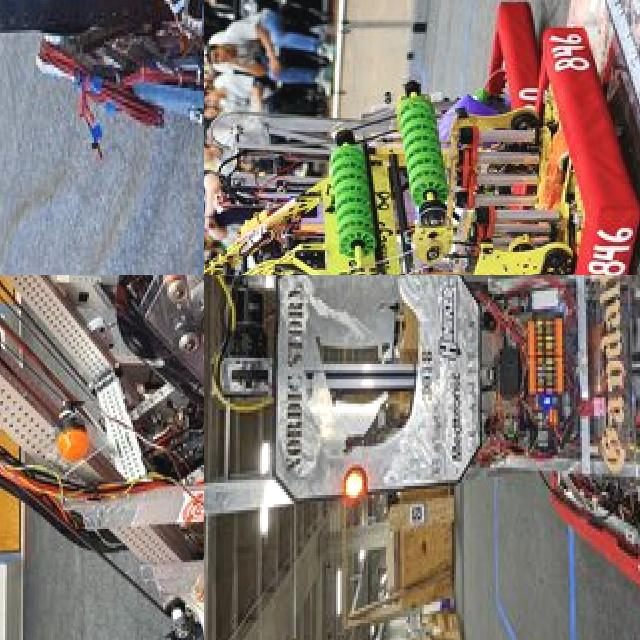FRC-Robots: (204, 275, 640, 640), (204, 2, 640, 275), (0, 275, 204, 640), (0, 0, 204, 253)
